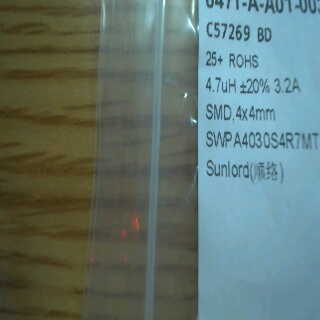4.7uH: (205, 74, 238, 93)
